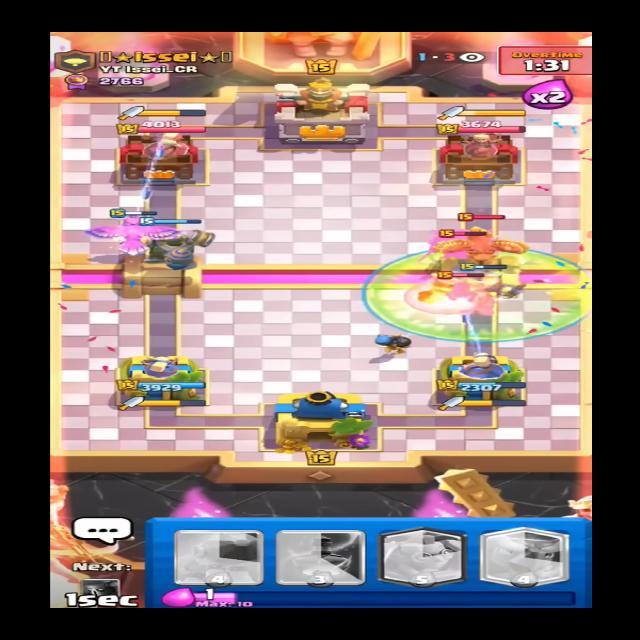Pheonix: (423, 218, 541, 258)
